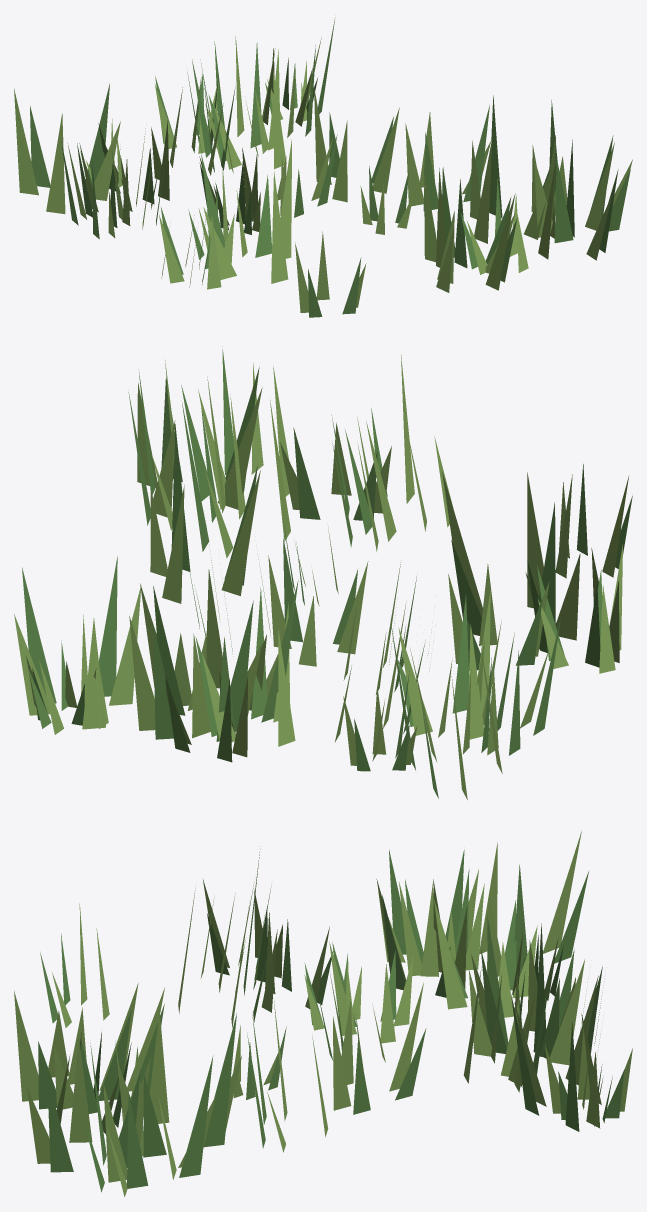
The model's file is grass.glb.
The picture shows the model from 3 angles, top to bottom: view 1: azimuth 30°, elevation 25°; view 2: azimuth 150°, elevation 25°; view 3: azimuth 270°, elevation 25°; orthographic projection. The views are drawn at different scales.
Parts seen in each view (by area): view 1: 0_leafLight, 0_leaf; view 2: 0_leafLight, 0_leaf; view 3: 0_leafLight, 0_leaf.
Boxes of the visible parts, x1,y1,x2,y2 form: 0_leafLight: [14, 36, 632, 312]; 0_leaf: [30, 17, 630, 317]; 0_leafLight: [14, 354, 629, 799]; 0_leaf: [22, 346, 632, 798]; 0_leafLight: [14, 830, 632, 1196]; 0_leaf: [38, 846, 624, 1192].
Size of the model in its own units: 2.29 by 0.5899 by 2.35.
